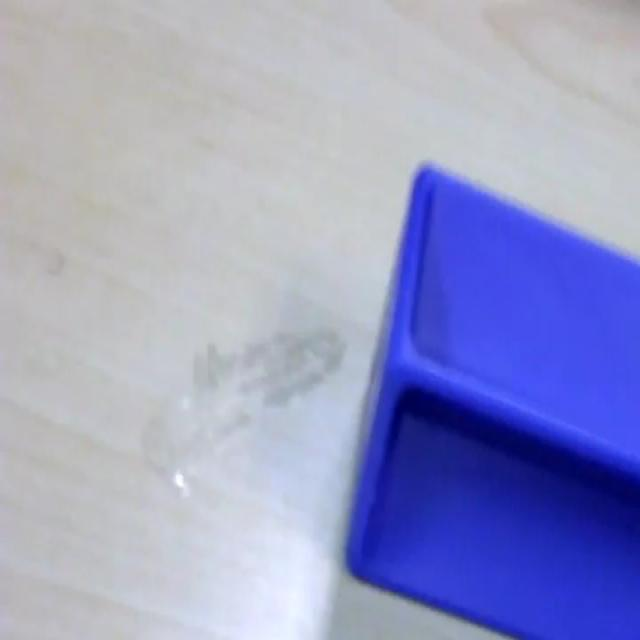blue_block: (343, 159, 638, 637)
